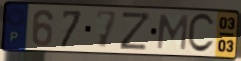6: (30, 8, 55, 48)
7: (94, 9, 118, 51), (60, 9, 84, 49)
C: (186, 12, 217, 55)
M: (155, 13, 190, 53)
Z: (119, 10, 153, 52)
